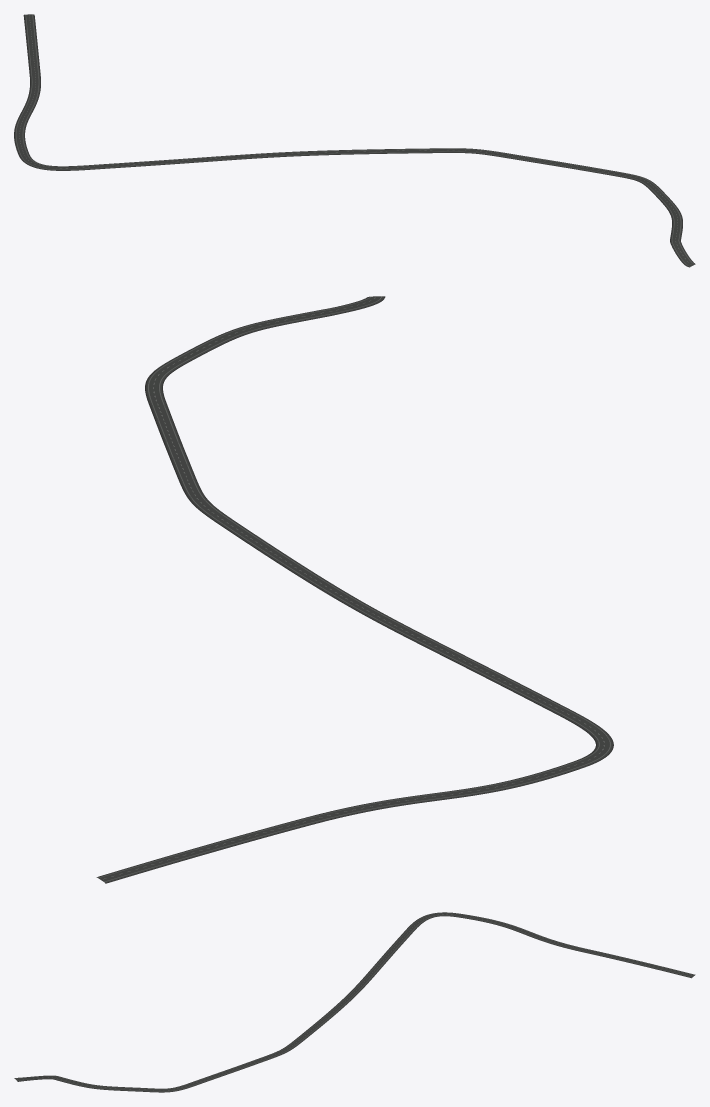
Rendered from Game_RoadContainer_geo.glb.
The picture shows the model from 3 angles, top to bottom: view 1: azimuth 30°, elevation 25°; view 2: azimuth 150°, elevation 25°; view 3: azimuth 270°, elevation 25°; orthographic projection. The views are drawn at different scales.
Visible parts, largest first — view 1: road_mesh4, road_mesh2, road_mesh, road_mesh8, road_mesh6, road_mesh3, road_mesh5; view 2: road_mesh4, road_mesh2, road_mesh, road_mesh8, road_mesh3, road_mesh6, road_mesh5, road_mesh7; view 3: road_mesh4, road_mesh2, road_mesh, road_mesh8, road_mesh6, road_mesh3, road_mesh5.
Boxes of the visible parts, x1=… form: road_mesh4: x1=109, y1=148, x2=428, y2=168; road_mesh2: x1=14, y1=76, x2=40, y2=154; road_mesh: x1=23, y1=14, x2=40, y2=76; road_mesh8: x1=654, y1=192, x2=682, y2=240; road_mesh6: x1=514, y1=155, x2=612, y2=174; road_mesh3: x1=19, y1=154, x2=109, y2=170; road_mesh5: x1=428, y1=148, x2=516, y2=159; road_mesh4: x1=228, y1=526, x2=554, y2=706; road_mesh2: x1=304, y1=761, x2=584, y2=824; road_mesh: x1=96, y1=818, x2=312, y2=883; road_mesh8: x1=182, y1=309, x2=329, y2=358; road_mesh3: x1=541, y1=701, x2=613, y2=767; road_mesh6: x1=149, y1=402, x2=192, y2=471; road_mesh5: x1=175, y1=470, x2=242, y2=529; road_mesh7: x1=145, y1=354, x2=195, y2=403; road_mesh4: x1=298, y1=935, x2=408, y2=1038; road_mesh2: x1=457, y1=913, x2=586, y2=952; road_mesh: x1=583, y1=949, x2=695, y2=978; road_mesh8: x1=53, y1=1076, x2=137, y2=1091; road_mesh6: x1=189, y1=1060, x2=258, y2=1085; road_mesh3: x1=401, y1=912, x2=459, y2=936; road_mesh5: x1=254, y1=1037, x2=305, y2=1063.
Size of the model in its own units: 755 by 15.21 by 1212.
Materials: 1 (1 with a texture image).
